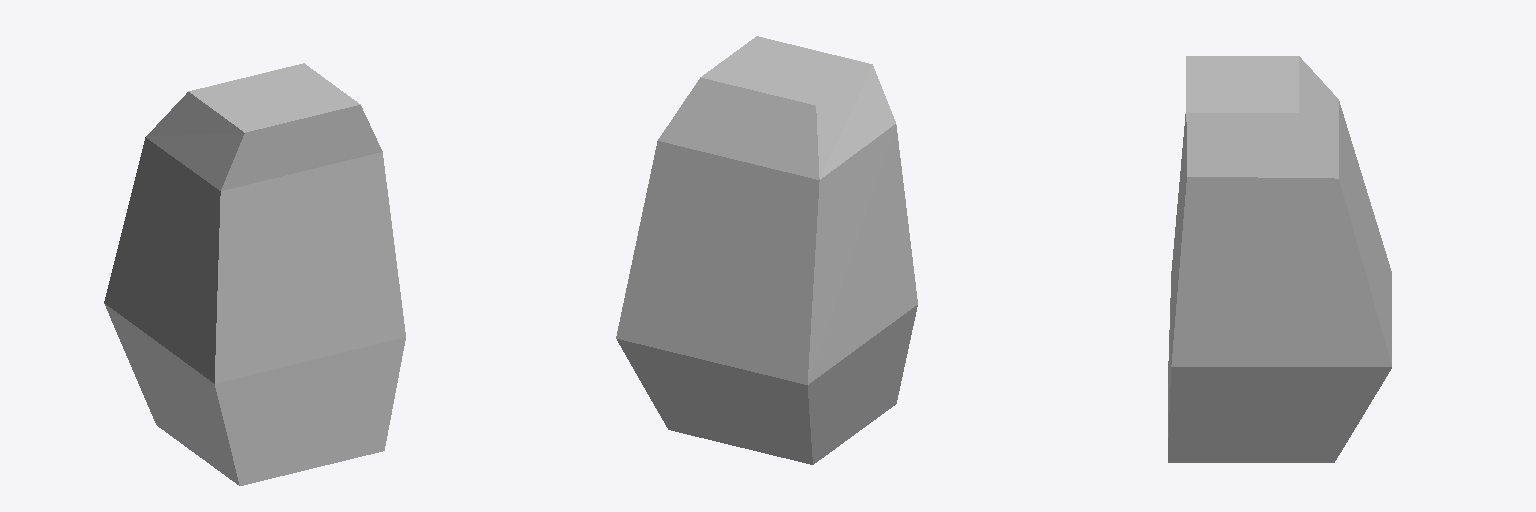
Rendered from body.obj.
3 views of the same model, side by side, from view 1: azimuth 30°, elevation 25°; view 2: azimuth 150°, elevation 25°; view 3: azimuth 270°, elevation 25° (orthographic).
Visible parts, largest first — view 1: Cube; view 2: Cube; view 3: Cube.
Part boxes in pixels (x1,y1,x2,y2): Cube: (104,63,405,485); Cube: (616,36,917,464); Cube: (1168,56,1391,462).
Bounding box in the file's own units: 0.5 × 0.8557 × 0.5085.